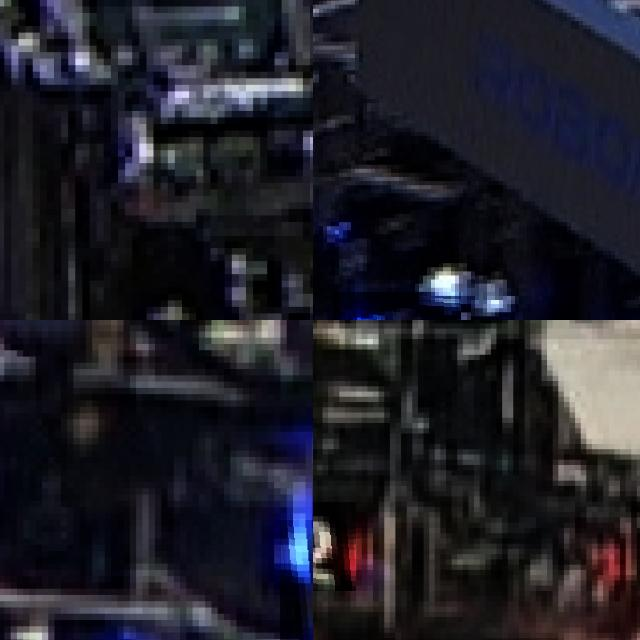B1: (0, 585, 145, 640), (280, 519, 313, 640)
B2: (333, 291, 461, 320)
R2: (313, 502, 356, 591)
